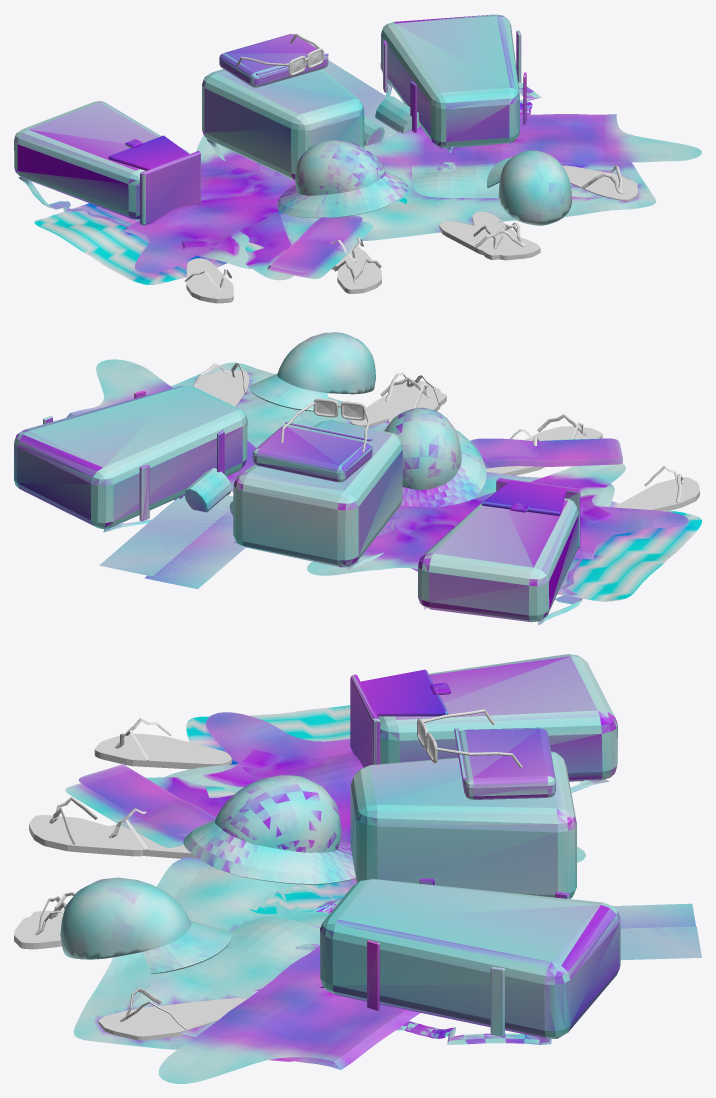
The model's file is beachPile.glb.
The picture shows the model from 3 angles, top to bottom: view 1: azimuth 30°, elevation 25°; view 2: azimuth 150°, elevation 25°; view 3: azimuth 270°, elevation 25°; orthographic projection. The views are drawn at different scales.
Parts seen in each view (by area): view 1: male_pack, female_pack, grommet_pack, pile_tee_male, pile_tee_female, grommet_bucketHat, pile_towel_m, pile_towel_f, pile_tee_grommet, male_cap, male_thongs, pile_shorts (+4 smaller); view 2: male_pack, grommet_pack, female_pack, grommet_fins, grommet_bucketHat, male_cap, pile_towel_f, pile_tee_female, pile_tee_grommet, pile_tee_male, pile_shorts, female_thongs (+4 smaller); view 3: male_pack, grommet_pack, pile_tee_male, female_pack, grommet_bucketHat, pile_towel_m, male_cap, pile_tee_female, female_thongs, pile_shorts, male_thongs, pile_towel_f (+4 smaller).
Boxes of the visible parts, box(x1,y1,x2,y2) form: male_pack: box(380, 14, 541, 171); female_pack: box(14, 101, 200, 227); grommet_pack: box(202, 34, 364, 180); pile_tee_male: box(364, 114, 701, 198); pile_tee_female: box(123, 167, 319, 273); grommet_bucketHat: box(277, 140, 408, 218); pile_towel_m: box(355, 162, 655, 240); pile_towel_f: box(34, 163, 407, 284); pile_tee_grommet: box(181, 135, 293, 280); male_cap: box(486, 150, 571, 225); male_thongs: box(439, 165, 638, 260); pile_shorts: box(267, 215, 372, 278); male_pack: box(14, 385, 247, 532); grommet_pack: box(233, 420, 402, 569); female_pack: box(418, 478, 582, 625); grommet_fins: box(99, 468, 245, 589); grommet_bucketHat: box(383, 407, 486, 507); male_cap: box(249, 332, 375, 411); pile_towel_f: box(382, 501, 701, 601); pile_tee_female: box(389, 472, 688, 559); pile_tee_grommet: box(307, 463, 625, 575); pile_tee_male: box(66, 359, 312, 500); pile_shorts: box(470, 438, 622, 468); female_thongs: box(525, 414, 699, 510); male_pack: box(253, 878, 620, 1044); grommet_pack: box(316, 727, 576, 912); pile_tee_male: box(128, 917, 420, 1083); female_pack: box(350, 654, 617, 792); grommet_bucketHat: box(183, 775, 355, 884); pile_towel_m: box(73, 858, 350, 1061); male_cap: box(60, 877, 231, 974); pile_tee_female: box(165, 712, 363, 883); female_thongs: box(29, 718, 231, 856); pile_shorts: box(65, 763, 215, 847); male_thongs: box(14, 896, 247, 1040); pile_towel_f: box(186, 705, 350, 913).
Bounding box in the file's own units: 1.6 × 0.3032 × 1.19.
